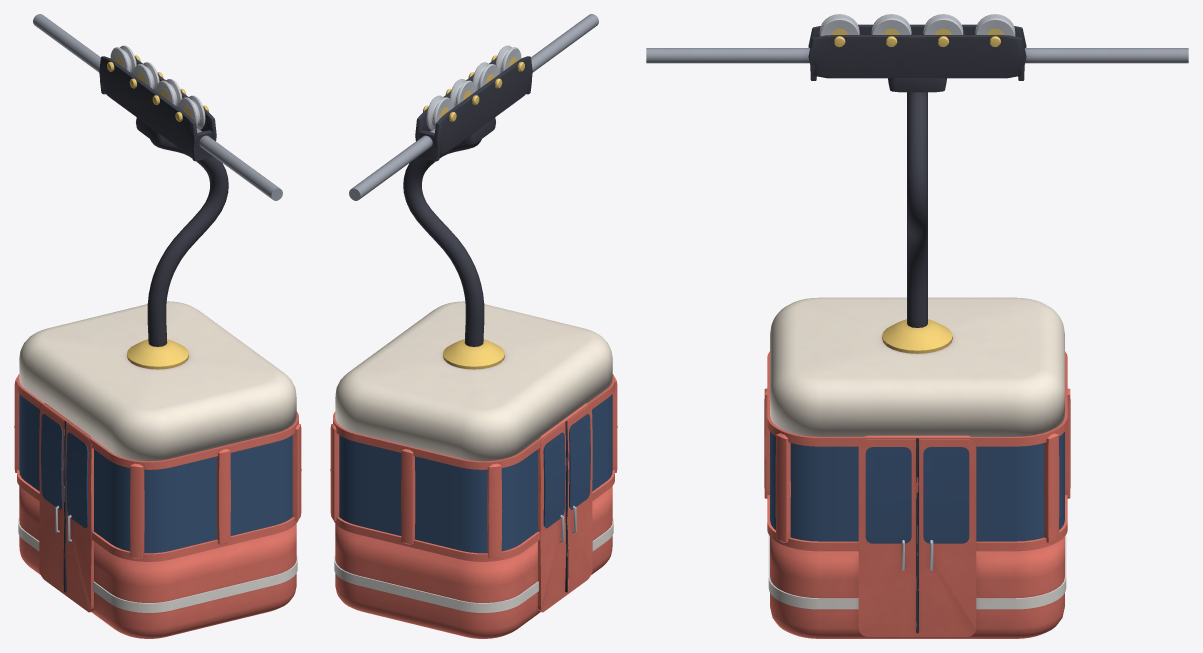
The model's file is cable-car.glb.
3 views of the same model, side by side, from view 1: azimuth 30°, elevation 25°; view 2: azimuth 150°, elevation 25°; view 3: azimuth 270°, elevation 25° (orthographic). The views are drawn at different scales.
Parts seen in each view (by area): view 1: cable-car_body, cable-car_windows, cable-car_door_windows, cable-car; view 2: cable-car_body, cable-car_windows, cable-car_door_windows, cable-car; view 3: cable-car_body, cable-car_windows, cable-car_door_windows, cable-car.
Part boxes in pixels (<box>): cable-car_body: <box>14,14,301,638</box>; cable-car_windows: <box>19,394,292,553</box>; cable-car_door_windows: <box>41,414,88,528</box>; cable-car: <box>110,45,205,129</box>; cable-car_body: <box>330,14,617,638</box>; cable-car_windows: <box>339,394,612,553</box>; cable-car_door_windows: <box>543,414,590,528</box>; cable-car: <box>426,45,521,129</box>; cable-car_body: <box>646,24,1188,638</box>; cable-car_windows: <box>770,432,1064,541</box>; cable-car_door_windows: <box>865,447,969,543</box>; cable-car: <box>819,14,1015,36</box>.
Size of the model in its own units: 2.14 by 5.42 by 4.6.
Materials: 11 (1 with a texture image).
